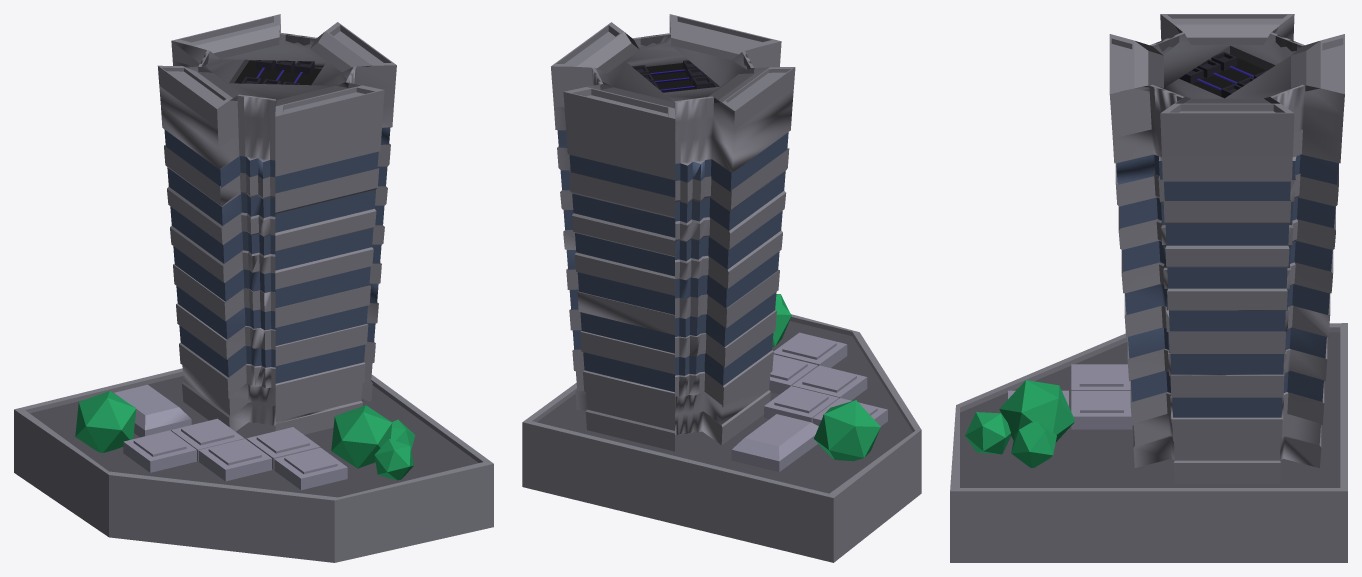
The model's file is General_Building.glb.
3 views of the same model, side by side, from view 1: azimuth 30°, elevation 25°; view 2: azimuth 150°, elevation 25°; view 3: azimuth 270°, elevation 25° (orthographic). The views are drawn at different scales.
Visible parts, largest first — view 1: general_building_1; view 2: general_building_1; view 3: general_building_1.
Part boxes in pixels (x1=…): general_building_1: x1=14, y1=14, x2=493, y2=562; general_building_1: x1=522, y1=14, x2=921, y2=562; general_building_1: x1=950, y1=14, x2=1347, y2=562.
Size of the model in its own units: 3.27 by 4.05 by 3.27.
Materials: 1 (1 with a texture image).
